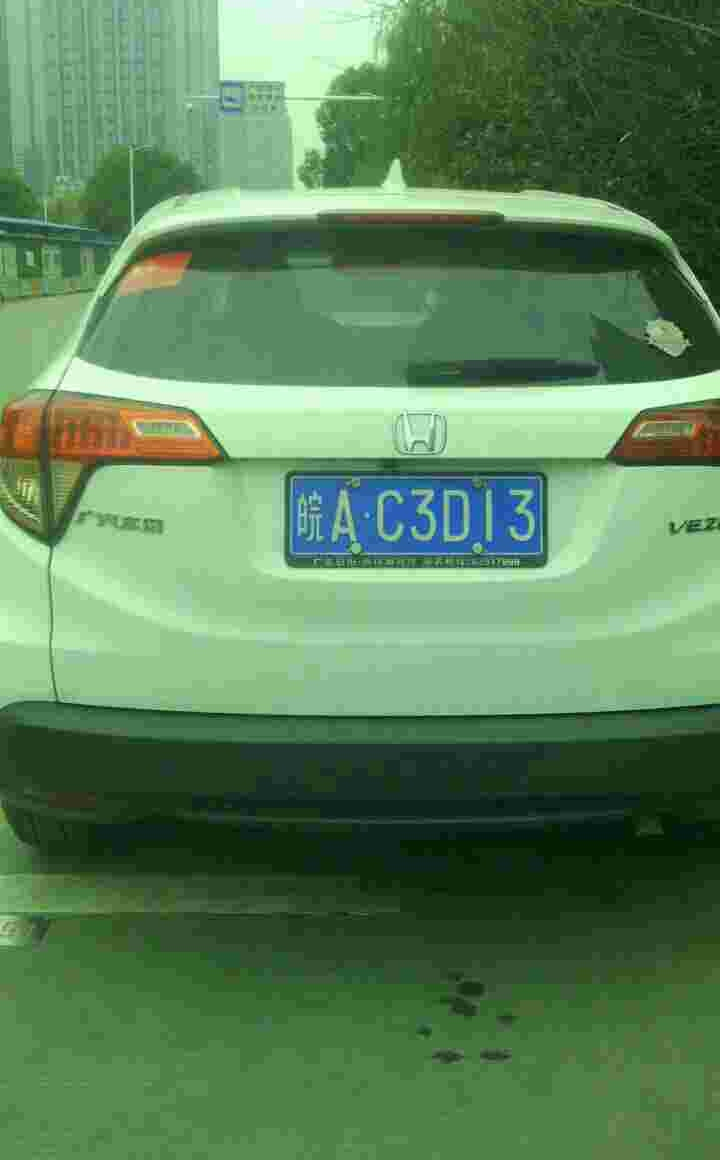license_plate: (283, 474, 533, 564)
